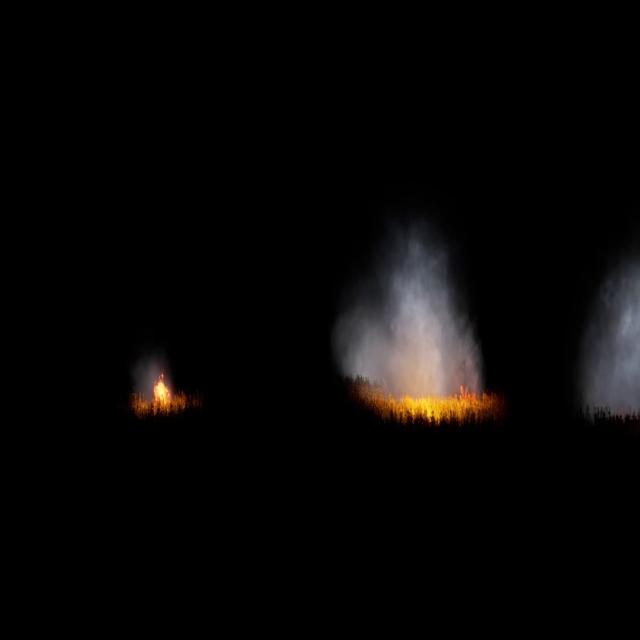fire: (359, 381, 499, 416), (150, 377, 173, 410)
smoke: (333, 228, 488, 394), (580, 254, 640, 422), (136, 361, 176, 404)
